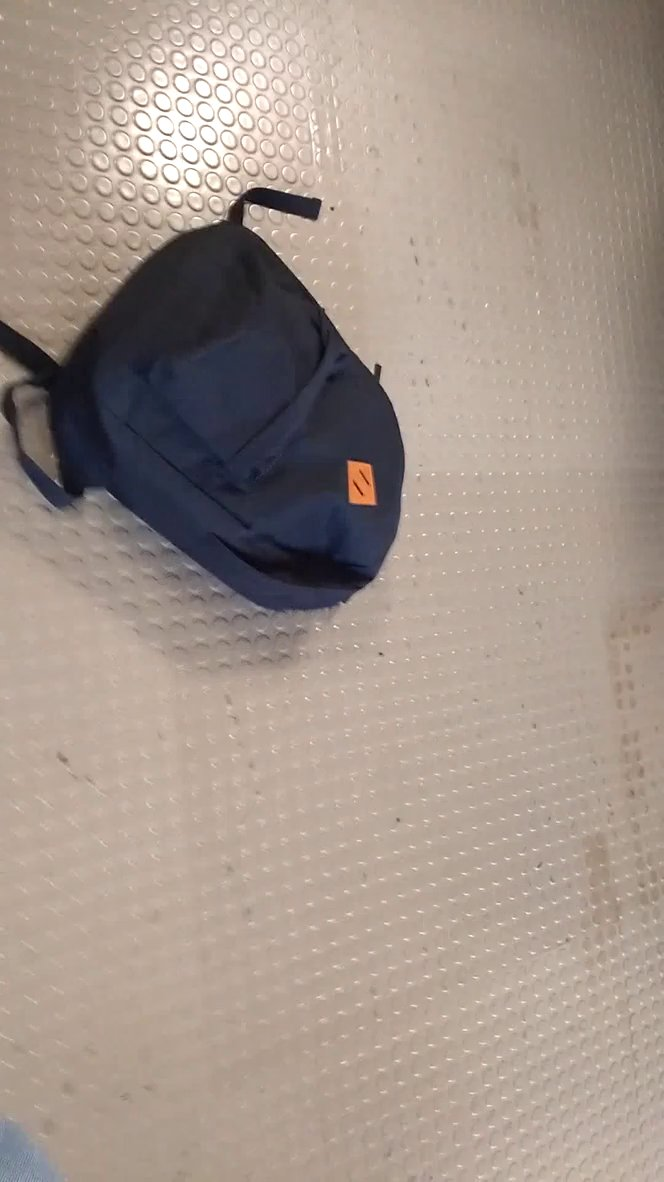bag: (1, 153, 412, 624)
